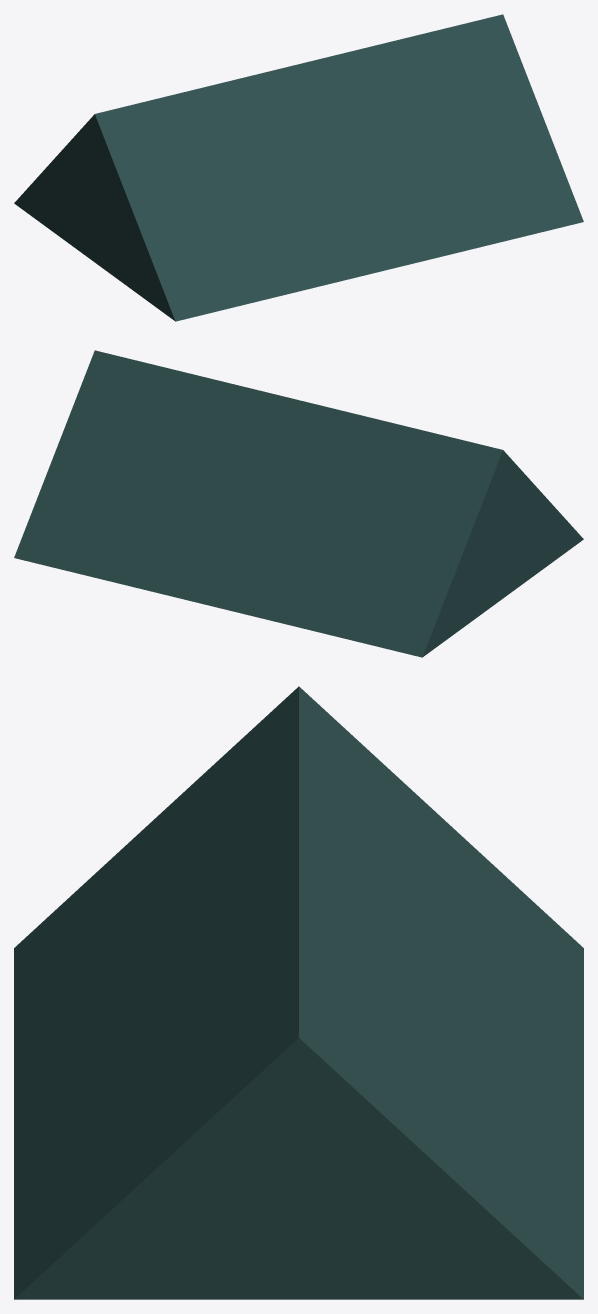
The model's file is Prop_Gothic_Building_Roof_Top_Triangle_01.FBX.
3 views of the same model, one above another, from view 1: azimuth 30°, elevation 25°; view 2: azimuth 150°, elevation 25°; view 3: azimuth 270°, elevation 25° (orthographic). The views are drawn at different scales.
Visible parts, largest first — view 1: Prop_Gothic_Building_Roof_Top_Triangle_01; view 2: Prop_Gothic_Building_Roof_Top_Triangle_01; view 3: Prop_Gothic_Building_Roof_Top_Triangle_01.
Part boxes in pixels (x1=…): Prop_Gothic_Building_Roof_Top_Triangle_01: x1=14, y1=14, x2=583, y2=321; Prop_Gothic_Building_Roof_Top_Triangle_01: x1=14, y1=350, x2=583, y2=657; Prop_Gothic_Building_Roof_Top_Triangle_01: x1=14, y1=686, x2=583, y2=1299.
Size of the model in its own units: 14240 by 4950 by 9760.
